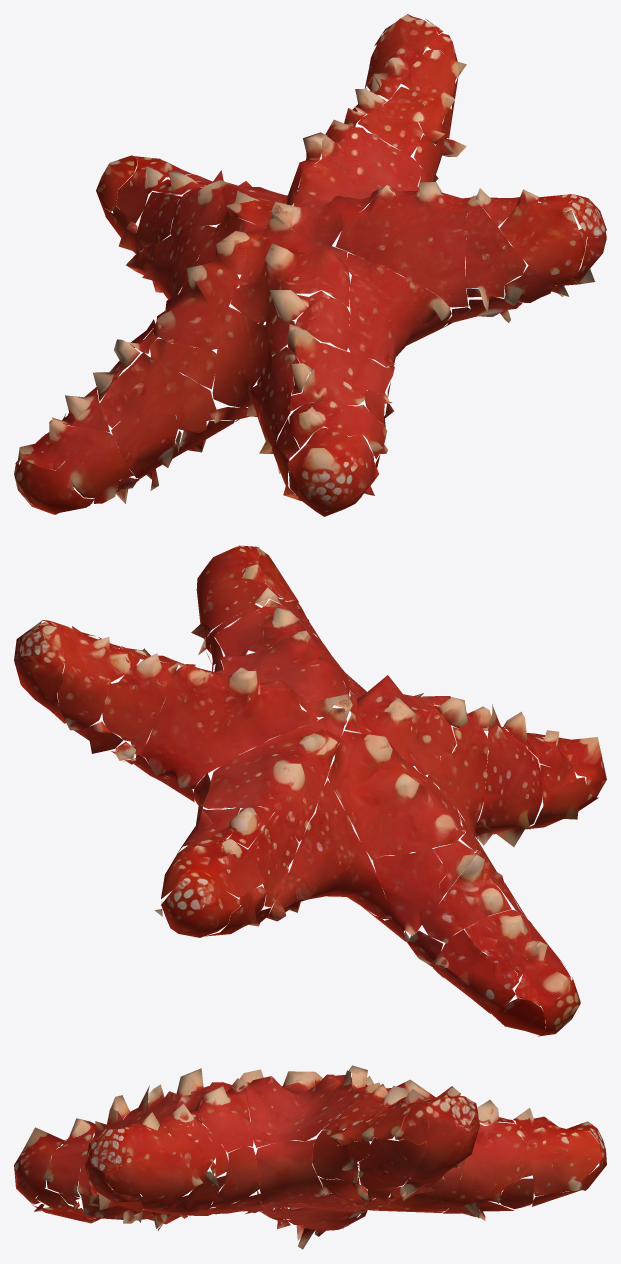
File: star_big_red.glb
3 renders of one model, top to bottom at view 1: azimuth 30°, elevation 25°; view 2: azimuth 150°, elevation 25°; view 3: azimuth 270°, elevation 25°, orthographic. The views are drawn at different scales.
Parts seen in each view (by area): view 1: tripo_node_f548cd91-d9f5-49fc-becc-5d4f6ada0c52; view 2: tripo_node_f548cd91-d9f5-49fc-becc-5d4f6ada0c52; view 3: tripo_node_f548cd91-d9f5-49fc-becc-5d4f6ada0c52.
Part boxes in pixels (<box>): tripo_node_f548cd91-d9f5-49fc-becc-5d4f6ada0c52: <box>14,14,606,516</box>; tripo_node_f548cd91-d9f5-49fc-becc-5d4f6ada0c52: <box>14,545,606,1036</box>; tripo_node_f548cd91-d9f5-49fc-becc-5d4f6ada0c52: <box>14,1065,606,1249</box>.
Bounding box in the file's own units: 0.8984 × 0.609 × 1.
Materials: 1 (1 with a texture image).
